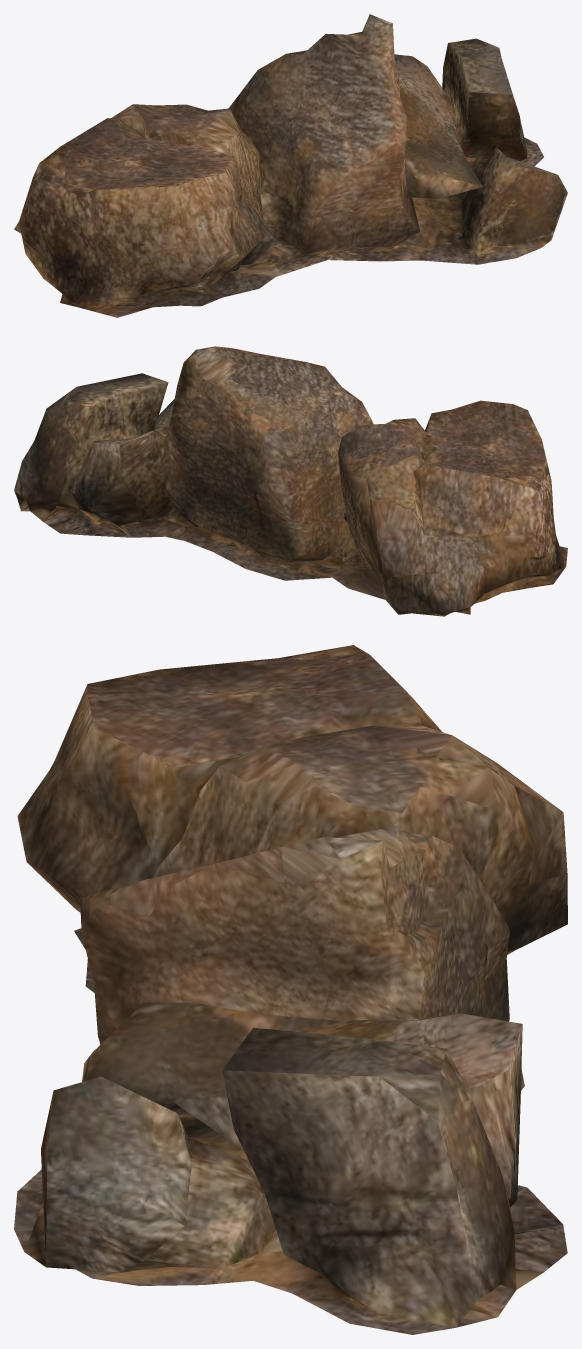
The model's file is rock_c.glb.
3 views of the same model, one above another, from view 1: azimuth 30°, elevation 25°; view 2: azimuth 150°, elevation 25°; view 3: azimuth 270°, elevation 25° (orthographic). The views are drawn at different scales.
Visible parts, largest first — view 1: rock_c; view 2: rock_c; view 3: rock_c.
Boxes of the visible parts, x1,y1,x2,y2 form: rock_c: (14, 14, 567, 317); rock_c: (14, 346, 567, 616); rock_c: (14, 645, 567, 1334).
Bounding box in the file's own units: 2.51 × 0.8353 × 1.21.
Materials: 1 (1 with a texture image).
